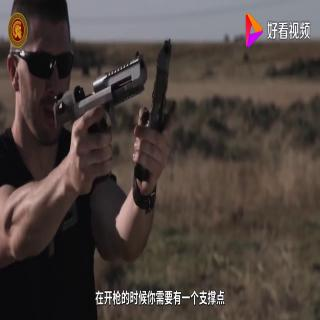gun: (46, 59, 146, 193), (126, 35, 178, 209)
